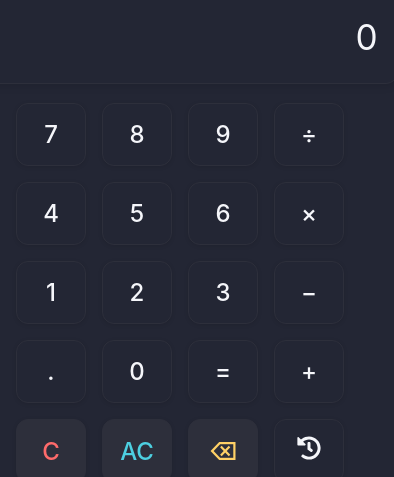
Calculator › performs subtraction
The width and height of the screenshot is (394, 477).
Click the button "9" at (223, 135), box [188,103,258,166]
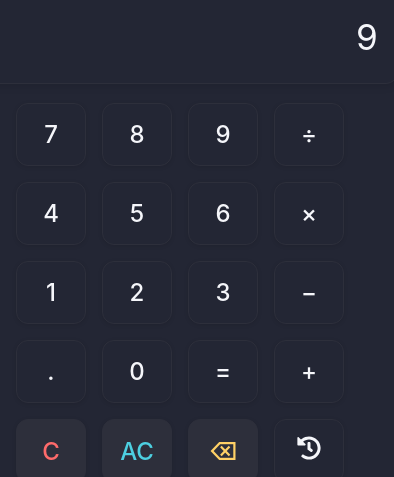
Click the button "−" at (309, 293), box [274,261,344,324]
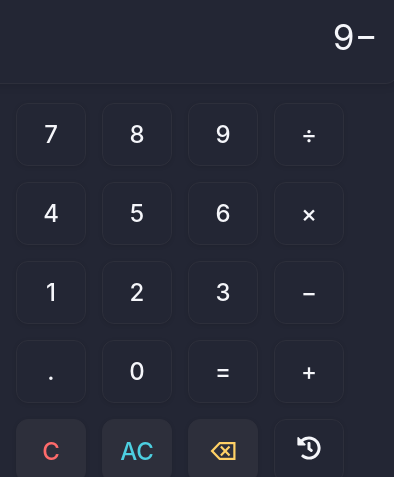
Click the button "4" at (51, 214), box [16,182,86,245]
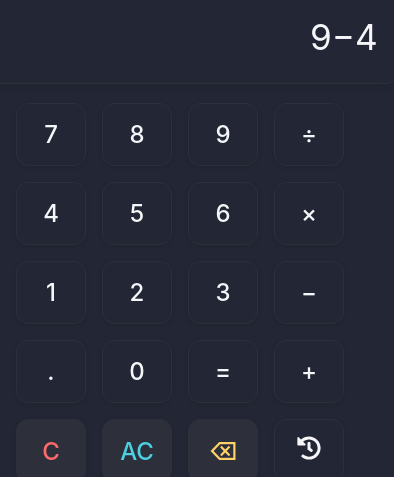
Click the button "=" at (223, 372), box [188,340,258,403]
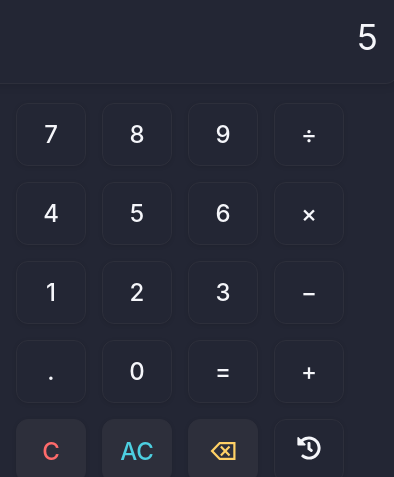
Expected: the text named "display" reads "5", [357,16,378,58]
